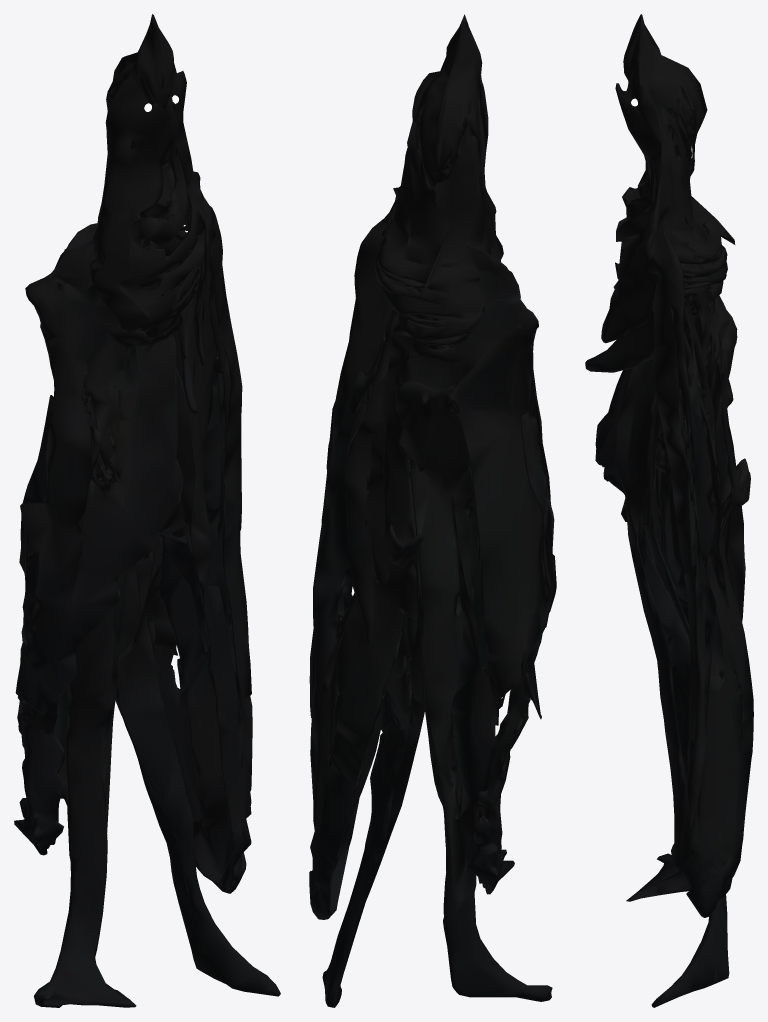
The model's file is the_passenger_cleaned.glb.
The picture shows the model from 3 angles, left to right: view 1: azimuth 30°, elevation 25°; view 2: azimuth 150°, elevation 25°; view 3: azimuth 270°, elevation 25°; orthographic projection. The views are drawn at different scales.
Parts seen in each view (by area): view 1: ThePassenger_Body; view 2: ThePassenger_Body; view 3: ThePassenger_Body.
Boxes of the visible parts, <box> form: ThePassenger_Body: <box>14,14,280,1007</box>; ThePassenger_Body: <box>309,14,556,1007</box>; ThePassenger_Body: <box>585,14,753,1007</box>.
Size of the model in its own units: 0.6087 by 2.4 by 0.3931.
2 materials, 1 textured.
